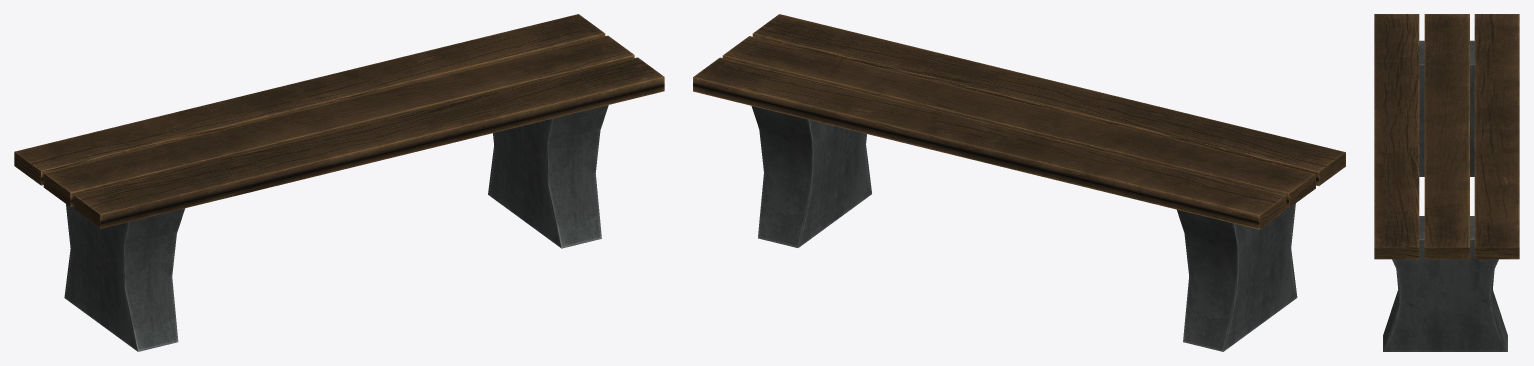
The model's file is Park_Bench_1.glb.
The picture shows the model from 3 angles, left to right: view 1: azimuth 30°, elevation 25°; view 2: azimuth 150°, elevation 25°; view 3: azimuth 270°, elevation 25°; orthographic projection. The views are drawn at different scales.
Visible parts, largest first — view 1: Park_Bench_1__LOD2; view 2: Park_Bench_1__LOD2; view 3: Park_Bench_1__LOD2.
Part boxes in pixels (x1,y1,x2,y2): Park_Bench_1__LOD2: (14, 14, 664, 351); Park_Bench_1__LOD2: (693, 14, 1345, 351); Park_Bench_1__LOD2: (1374, 14, 1519, 351).
Bounding box in the file's own units: 2.57 × 0.6608 × 0.6786.
1 material, 1 textured.
